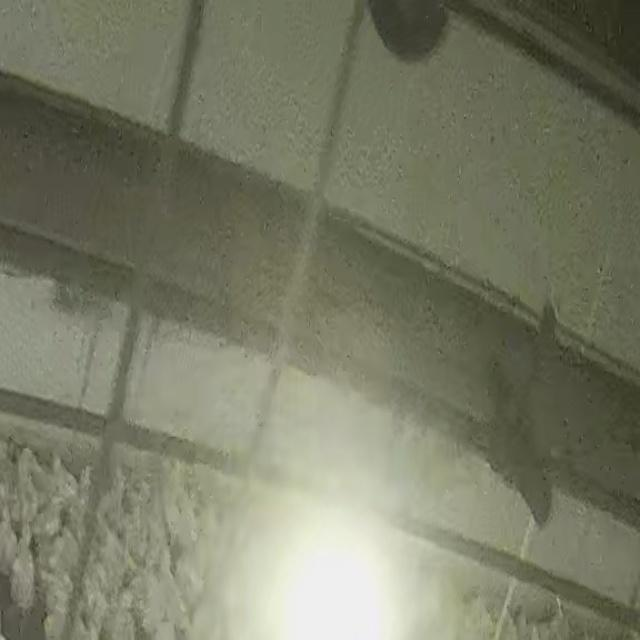chicken: (8, 560, 36, 622)
